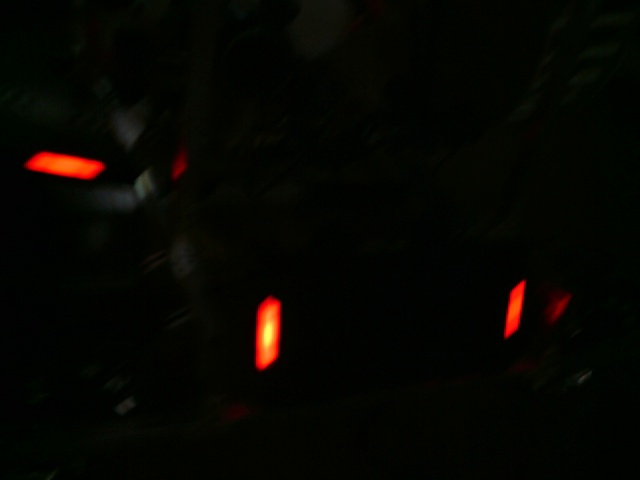lamp: (252, 298, 286, 365), (503, 280, 527, 342)
